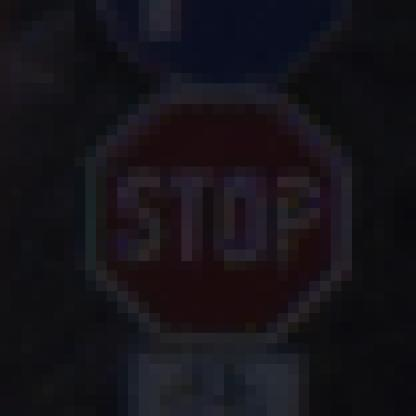stop: (70, 95, 381, 352)
